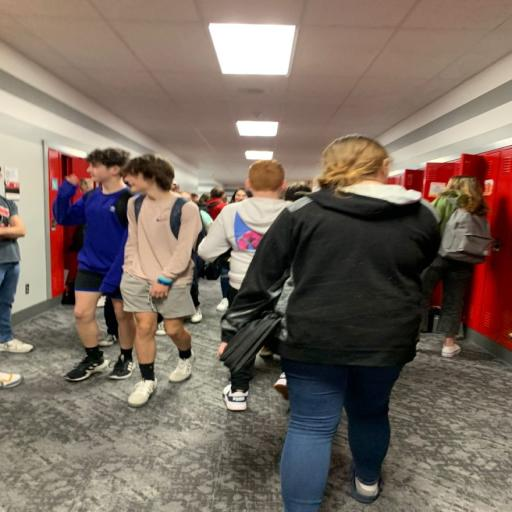crosswalk: (220, 134, 440, 512), (120, 154, 202, 407)
door: (220, 312, 282, 373), (438, 200, 494, 264)
